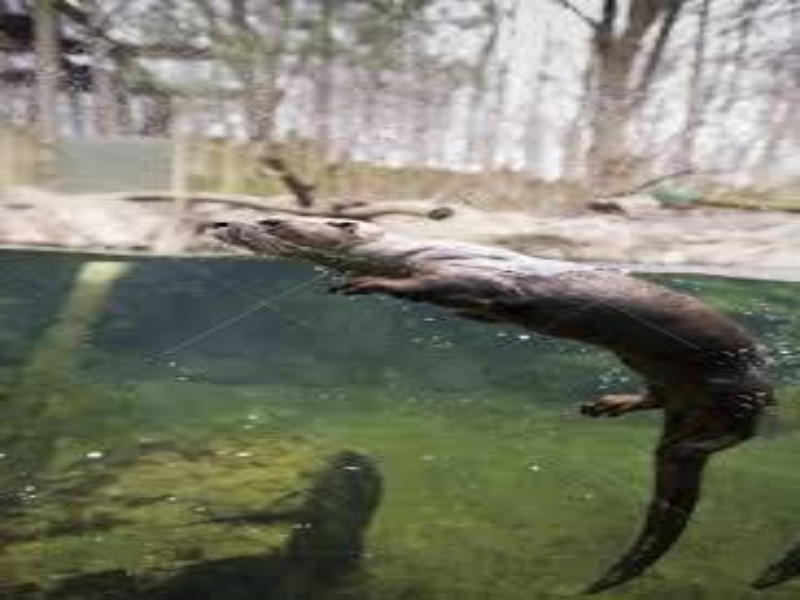minkish: (208, 209, 775, 592)
